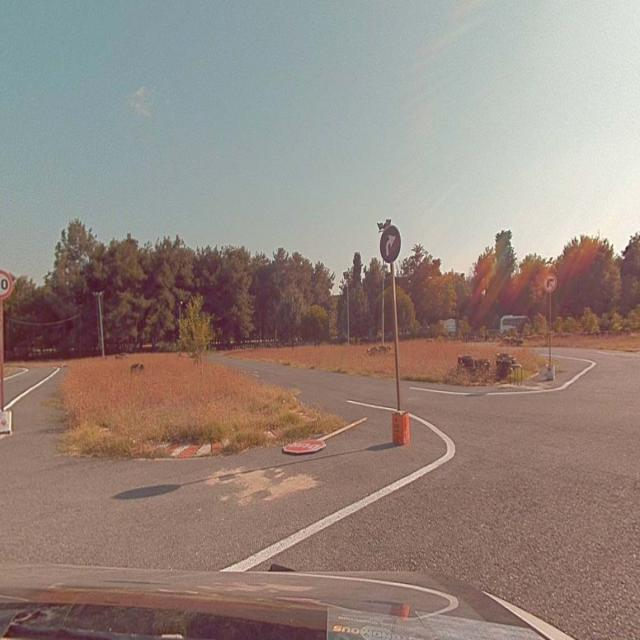sag: (380, 227, 401, 260)
sagadonulmez: (543, 272, 558, 294)
